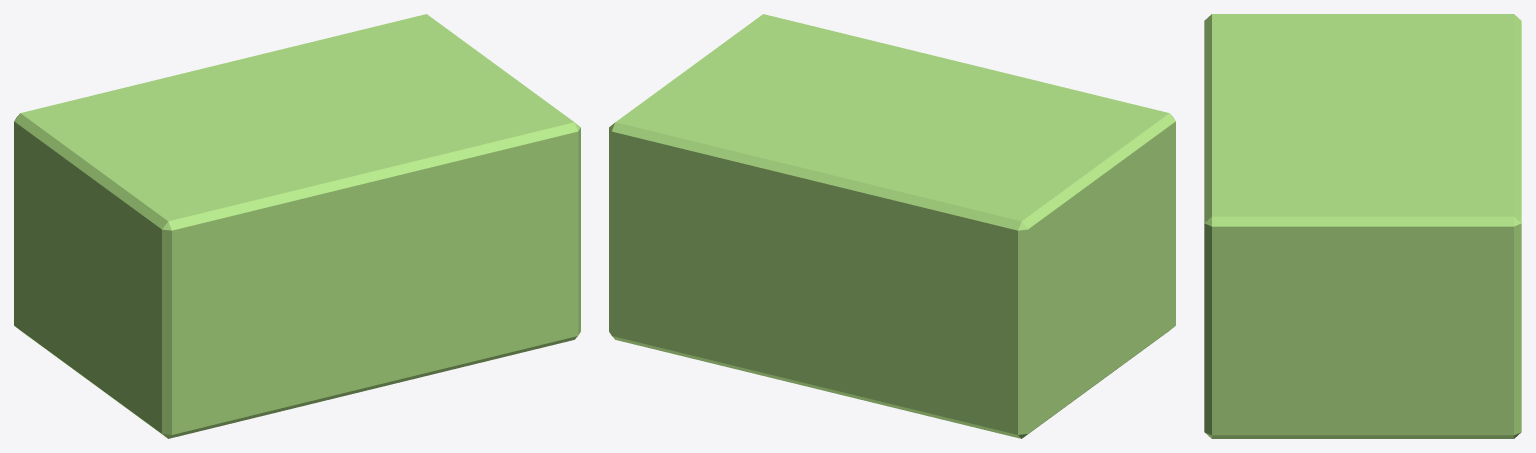
File: boxA.fbx
3 views of the same model, side by side, from view 1: azimuth 30°, elevation 25°; view 2: azimuth 150°, elevation 25°; view 3: azimuth 270°, elevation 25° (orthographic). The views are drawn at different scales.
Parts seen in each view (by area): view 1: boxA; view 2: boxA; view 3: boxA.
Part boxes in pixels (x1,y1,x2,y2): boxA: [14, 14, 580, 438]; boxA: [609, 14, 1175, 438]; boxA: [1204, 14, 1521, 438].
Bounding box in the file's own units: 39.63 × 19.67 × 25.43.
